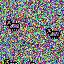sheep: (6, 19, 20, 31), (46, 28, 60, 39)
